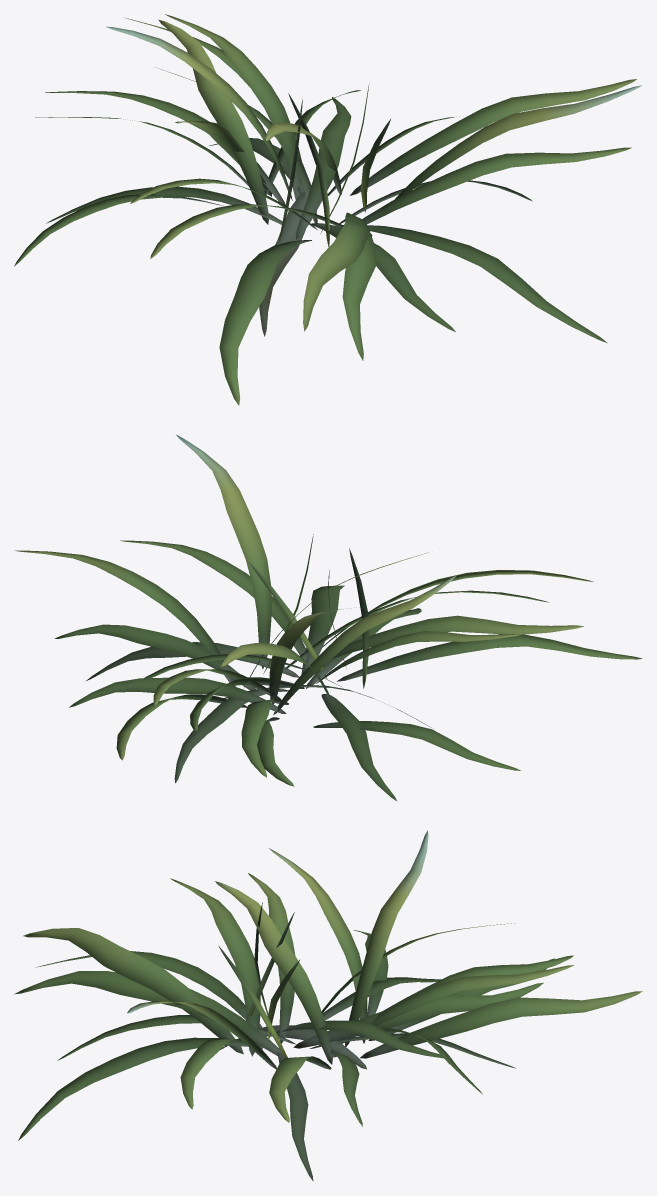
Rendered from osoka-aloesowata-23.obj.
3 renders of one model, top to bottom at view 1: azimuth 30°, elevation 25°; view 2: azimuth 150°, elevation 25°; view 3: azimuth 270°, elevation 25°, orthographic. The views are drawn at different scales.
Parts seen in each view (by area): view 1: Stratiotes-aloides1.011; view 2: Stratiotes-aloides1.011; view 3: Stratiotes-aloides1.011.
Boxes of the visible parts, left/top/right/bottom form: Stratiotes-aloides1.011: left=14, top=14, right=641, bottom=405; Stratiotes-aloides1.011: left=15, top=434, right=641, bottom=800; Stratiotes-aloides1.011: left=14, top=830, right=642, bottom=1181.
Size of the model in its own units: 0.379 by 0.1427 by 0.3934.
1 material, 1 textured.
